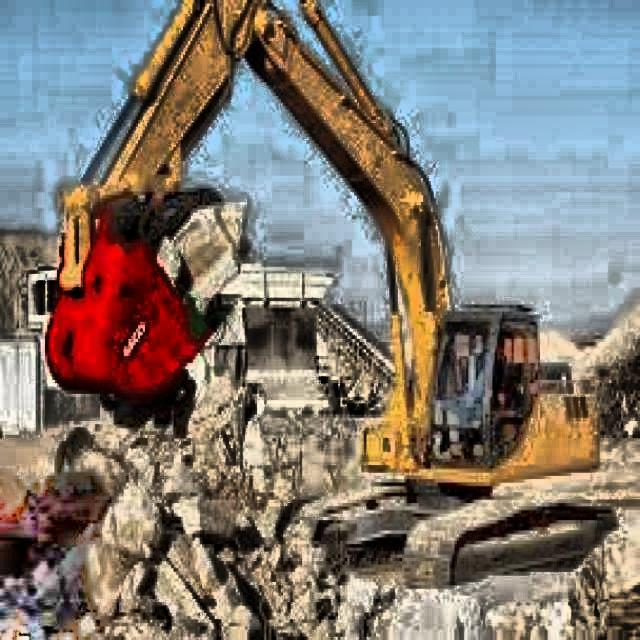bull_dozer/loader/grader: (42, 0, 619, 588)
person: (464, 336, 512, 431)
